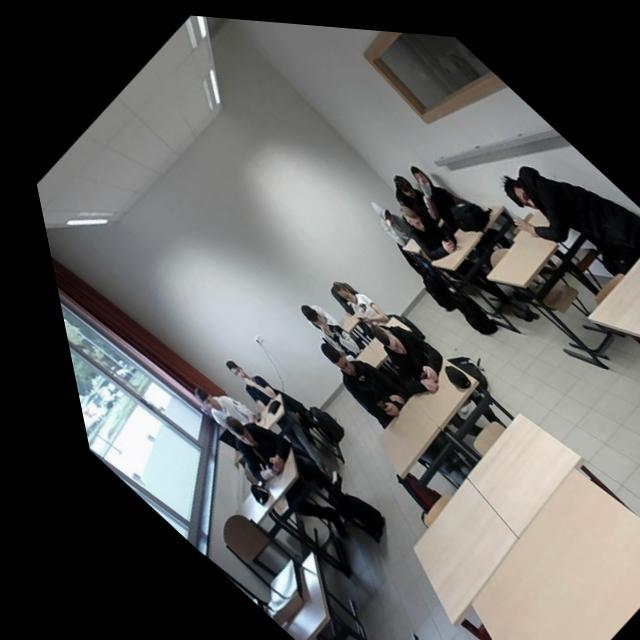phone_use: (340, 320, 440, 424), (197, 391, 288, 486), (320, 340, 418, 426), (372, 175, 456, 258), (330, 281, 387, 322)
